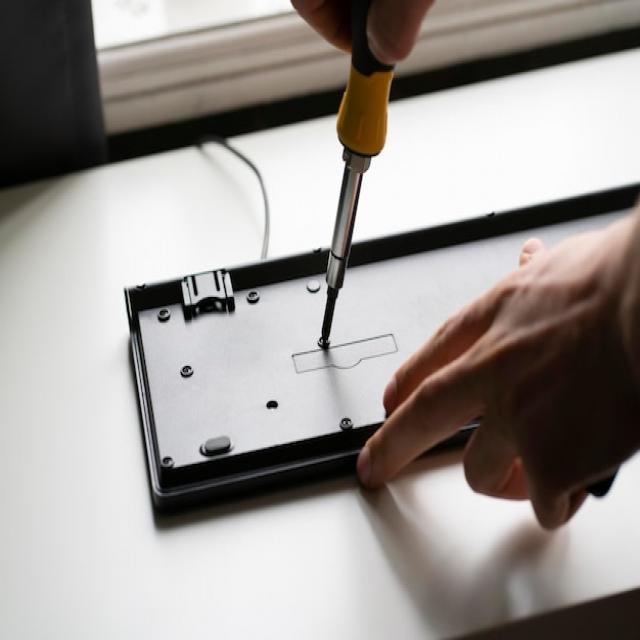screwdriver: (314, 18, 404, 356)
